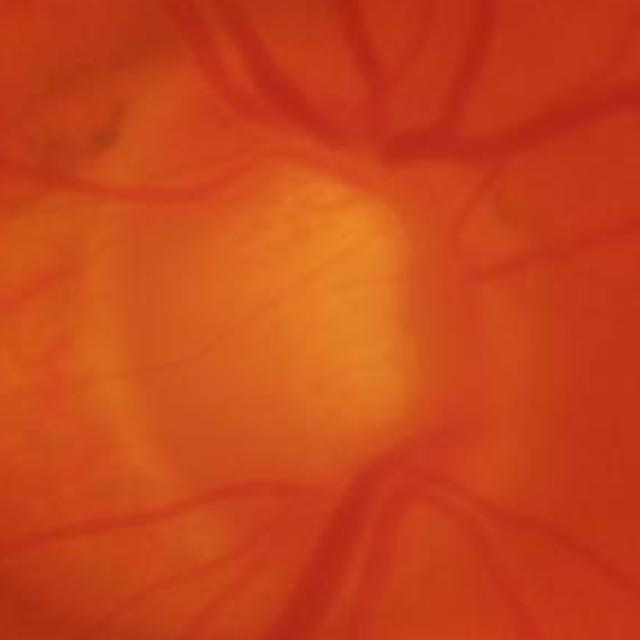OC: (240, 167, 431, 435)
OD: (85, 9, 634, 618)
